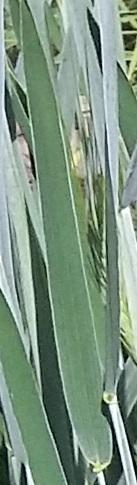Wheat: (17, 2, 93, 270), (44, 272, 115, 474)
